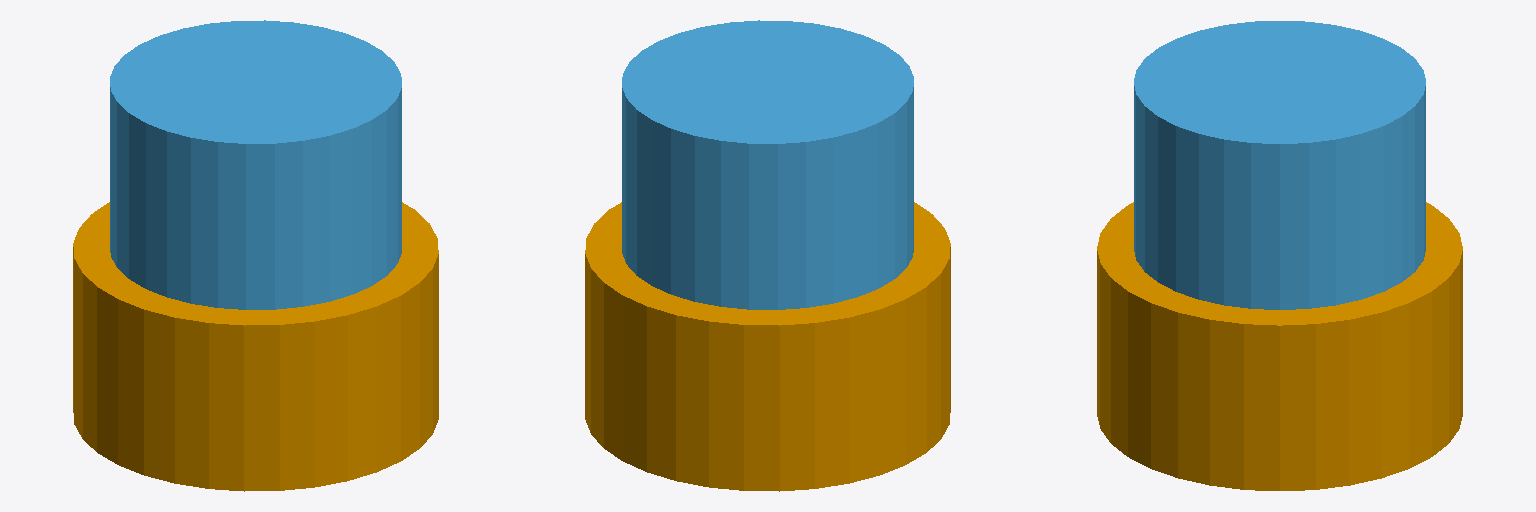
robot.urdf — lazDar:
<?xml version="1.0" ?>
<!-- =================================================================================== -->
<!-- |    This document was autogenerated by xacro from lidar.xacro                    | -->
<!-- |    EDITING THIS FILE BY HAND IS NOT RECOMMENDED                                 | -->
<!-- =================================================================================== -->
<robot name="lazDar">
  <gazebo reference="laz_base">
    <material>Gazebo/Grey</material>
    <mu1>0.2</mu1>
    <mu2>0.2</mu2>
  </gazebo>
  <link name="laz_base">
    <visual>
      <geometry>
        <cylinder length="0.05" radius="0.05"/>
      </geometry>
    </visual>
    <collision>
      <geometry>
        <cylinder length="0.05" radius="0.05"/>
      </geometry>
    </collision>
    <inertial>
      <mass value="0.1"/>
      <inertia ixx="8.333333333333334e-05" ixy="0" ixz="0" iyy="8.333333333333334e-05" iyz="0" izz="0.00012500000000000003"/>
    </inertial>
  </link>
  <gazebo reference="laz_rot">
    <material>Gazebo/RedGlow</material>
    <mu1>0.2</mu1>
    <mu2>0.2</mu2>
    <sensor name="laz" type="ray">
      <always_on>true</always_on>
      <pose>0.04 0 0.025 1.5707963267948966 0 0</pose>
      <visualize>true</visualize>
      <update_rate>30</update_rate>
      <ray>
        <noise>
          <type>gaussian</type>
          <mean>0.0</mean>
          <stddev>0.01</stddev>
        </noise>
        <scan>
          <horizontal>
            <samples>15</samples>
            <resolution>1</resolution>
            <min_angle>-0.39269908169872414</min_angle>
            <max_angle>0.39269908169872414</max_angle>
          </horizontal>
          <vertical>
            <samples>1</samples>
            <resolution>1</resolution>
            <min_angle>-0.15</min_angle>
            <max_angle>0.15</max_angle>
          </vertical>
        </scan>
        <range>
          <min>0.05</min>
          <max>15</max>
          <resolution>0.02</resolution>
        </range>
      </ray>
    </sensor>
  </gazebo>
  <link name="laz_rot">
    <visual>
      <geometry>
        <cylinder length="0.1" radius="0.04"/>
      </geometry>
    </visual>
    <collision>
      <geometry>
        <cylinder length="0.1" radius="0.04"/>
      </geometry>
    </collision>
    <inertial>
      <mass value="0.1"/>
      <inertia ixx="0.00012333333333333334" ixy="0" ixz="0" iyy="0.00012333333333333334" iyz="0" izz="8e-05"/>
    </inertial>
  </link>
  <joint name="lazRot" type="continuous">
    <parent link="laz_base"/>
    <child link="laz_rot"/>
    <axis xyz="0 0 1"/>
    <origin xyz="0 0 0.025"/>
    <dynamics friction="0.1"/>
  </joint>
</robot>

--- Render facts (derived) ---
Views: 3 orthographic renders of the robot side by side, from view 1: azimuth 30°, elevation 25°; view 2: azimuth 150°, elevation 25°; view 3: azimuth 270°, elevation 25°.
Model lazDar with 2 links and 1 joints (1 continuous), rooted at laz_base, posed all joints at 0.
Visible links, largest first — view 1: laz_rot, laz_base; view 2: laz_rot, laz_base; view 3: laz_rot, laz_base.
Boxes of the visible links, x1=… form: laz_rot: x1=110, y1=20, x2=401, y2=309; laz_base: x1=73, y1=202, x2=438, y2=491; laz_rot: x1=622, y1=20, x2=913, y2=309; laz_base: x1=585, y1=202, x2=950, y2=491; laz_rot: x1=1134, y1=21, x2=1425, y2=309; laz_base: x1=1097, y1=202, x2=1462, y2=490.
Size in the robot's own frame: 0.1 by 0.1 by 0.1 metres.
Geometry: primitives only (box / cylinder / sphere), no mesh files.
